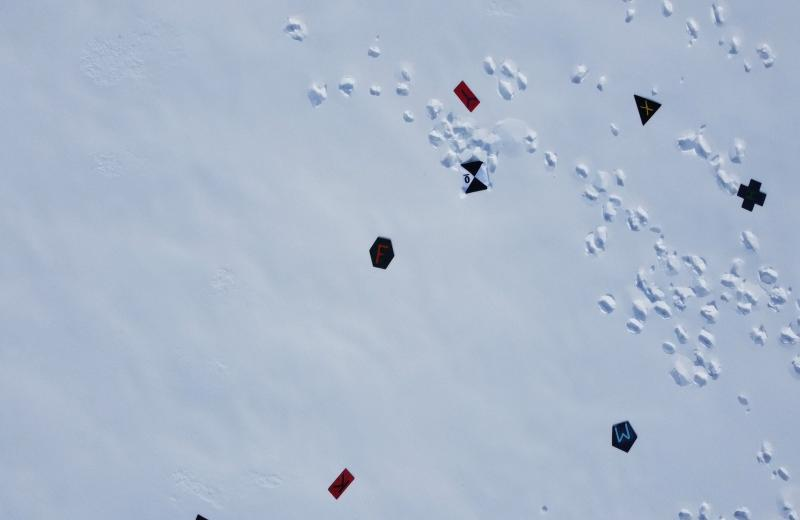Cross: (735, 178, 766, 212)
Hexagon: (367, 236, 398, 270)
Pentagon: (610, 421, 639, 455)
Rectangle: (450, 78, 484, 118), (326, 465, 356, 499)
Triangle: (634, 88, 662, 126)
